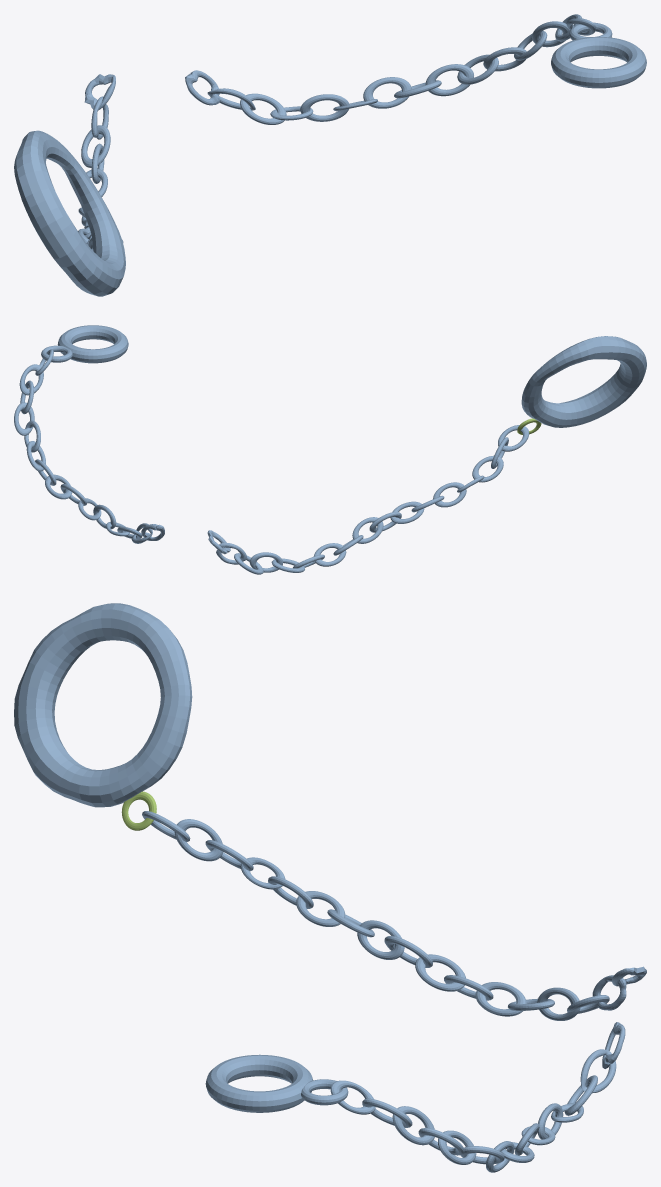
Rendered from thumbs_up.obj.
3 views of the same model, one above another, from view 1: azimuth 30°, elevation 25°; view 2: azimuth 150°, elevation 25°; view 3: azimuth 270°, elevation 25° (orthographic). The views are drawn at different scales.
Visible parts, largest first — view 1: Torus.034, Torus.000_Torus.037, Torus.005, Torus.014, Torus.006, Torus.002, Torus.020, Torus.001, Torus.023, Torus.013, Torus.012, Torus.003 (+3 smaller); view 2: Torus.034, Torus.000_Torus.037, Torus.028, Torus.031, Torus.027, Torus.035; view 3: Torus.034, Torus.000_Torus.037, Torus.032, Torus.026, Torus.036, Torus.025.
Part boxes in pixels (bbox=[...]): Torus.034: bbox=[14, 130, 125, 296]; Torus.000_Torus.037: bbox=[551, 36, 646, 88]; Torus.005: bbox=[363, 77, 411, 108]; Torus.014: bbox=[425, 64, 473, 96]; Torus.006: bbox=[300, 94, 349, 121]; Torus.002: bbox=[240, 93, 286, 124]; Torus.020: bbox=[84, 74, 115, 109]; Torus.001: bbox=[185, 70, 219, 105]; Torus.023: bbox=[81, 125, 110, 167]; Torus.013: bbox=[483, 47, 526, 71]; Torus.012: bbox=[457, 54, 498, 84]; Torus.003: bbox=[207, 88, 255, 110]; Torus.034: bbox=[521, 336, 646, 427]; Torus.000_Torus.037: bbox=[57, 325, 128, 363]; Torus.028: bbox=[433, 482, 466, 507]; Torus.031: bbox=[472, 455, 503, 482]; Torus.027: bbox=[352, 517, 383, 543]; Torus.035: bbox=[498, 425, 529, 451]; Torus.034: bbox=[14, 603, 192, 807]; Torus.000_Torus.037: bbox=[205, 1054, 313, 1112]; Torus.032: bbox=[174, 819, 223, 861]; Torus.026: bbox=[415, 954, 465, 991]; Torus.036: bbox=[301, 1079, 348, 1105]; Torus.025: bbox=[357, 920, 404, 959].
Bounding box in the file's own units: 10.65 × 3.63 × 7.42.
